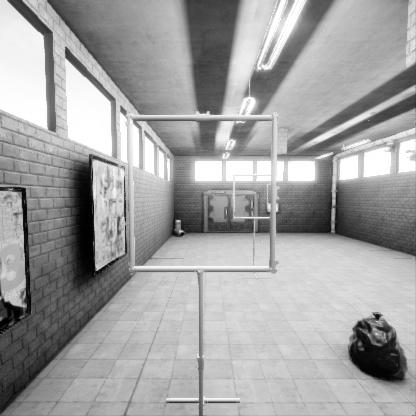gate: (133, 155, 282, 301), (234, 199, 278, 243), (267, 206, 275, 234)
